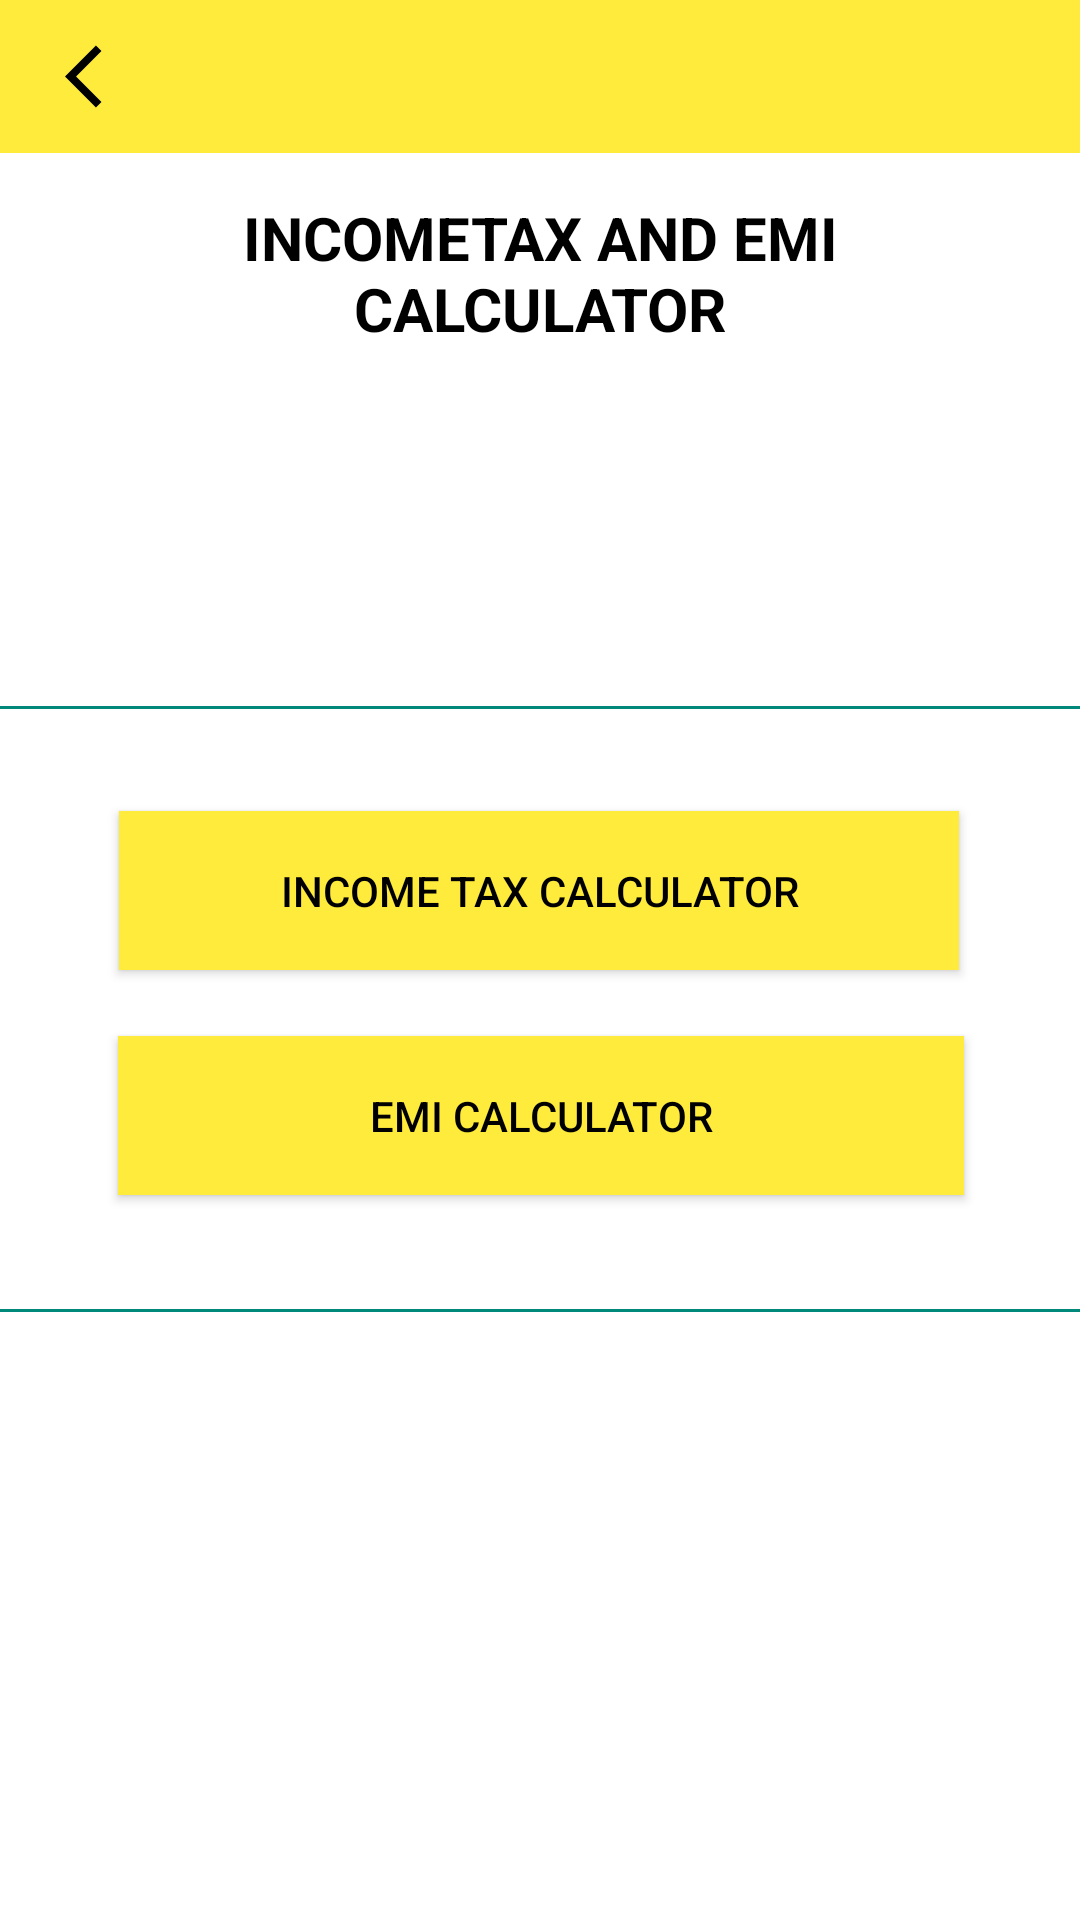

Named icons in this screenshot (1080 x 1920) and their bounding boxes, (x1, y1, x2, y2):
Back Arrow: (65, 45, 102, 108)
